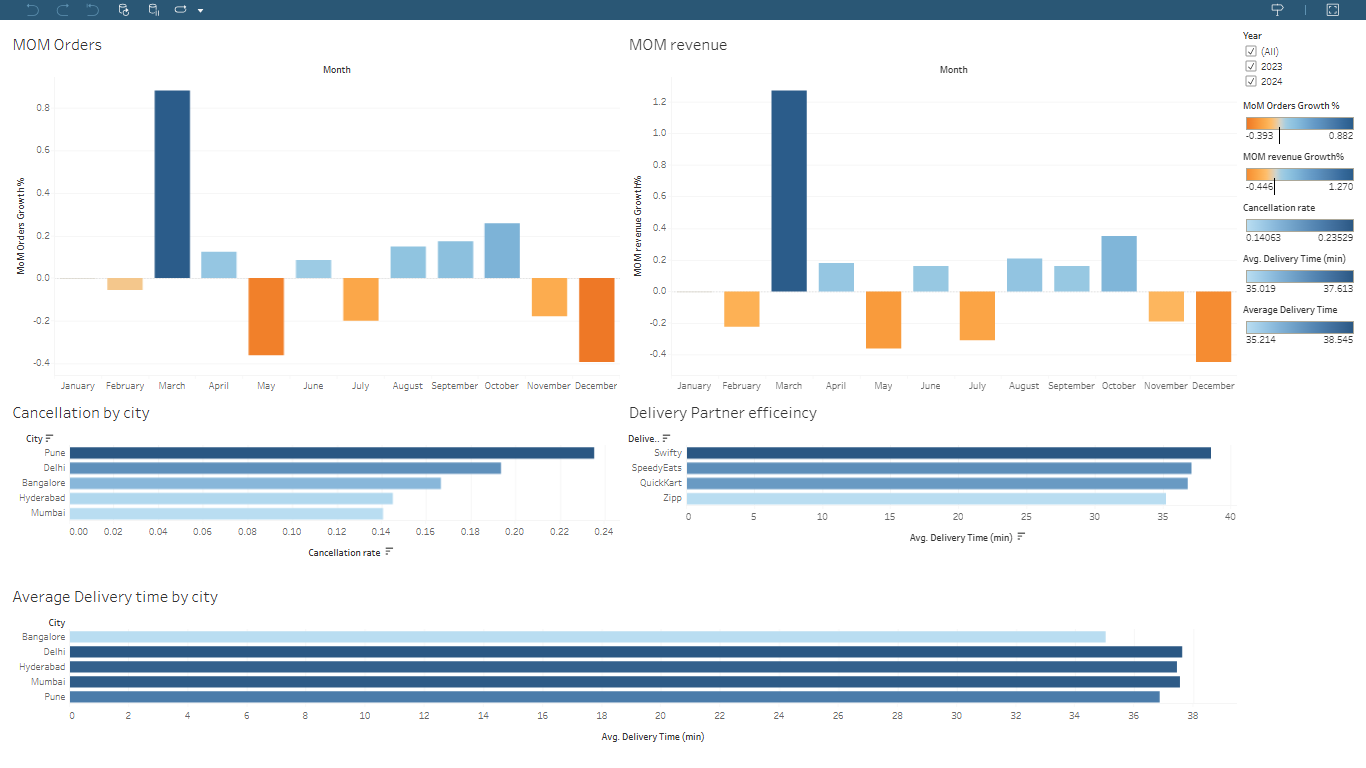

Layout of this report page (visuals, bound fields, positions):
{"tool":"tableau","page":{"name":"Additional insights","canvas":[650,860],"ordinal":0},"visuals":[{"type":"worksheet","title":"MOM Orders","mark":"Automatic","rows":["Calculation_253890445255352329"],"cols":["Month"],"box":[8,8.6,237,421.4]},{"type":"worksheet","title":"MOM revenue","mark":"Automatic","rows":["Calculation_253890445258588172"],"cols":["Month"],"box":[245,8.6,237,421.4]},{"type":"filter","title":"MOM Orders","param":"[federated.0hogbfi0d1iovd1blybye1nn2n2q].[none:Year:ok]","box":[482,8.6,160,112.6]},{"type":"legend","title":"MOM Orders","param":"[federated.0hogbfi0d1iovd1blybye1nn2n2q].[usr:Calculation_253890445255352329:qk]","box":[482,121.2,160,78.3]},{"type":"legend","title":"MOM revenue","param":"[federated.0hogbfi0d1iovd1blybye1nn2n2q].[usr:Calculation_253890445258588172:qk]","box":[482,199.5,160,78.3]},{"type":"legend","title":"Cancellation by city","param":"[federated.0hogbfi0d1iovd1blybye1nn2n2q].[usr:Calculation_253890444914860033:qk]","box":[482,277.8,160,78.3]},{"type":"legend","title":"Average Delivery time by city ","param":"[federated.0hogbfi0d1iovd1blybye1nn2n2q].[avg:Delivery Time (min):qk]","box":[482,356,160,78.3]},{"type":"worksheet","title":"Cancellation by city","mark":"Bar","rows":["City"],"cols":["Calculation_253890444914860033"],"box":[8,430,474,210.7]},{"type":"worksheet","title":"Delivery Partner efficeincy ","mark":"Automatic","rows":["Delivery Partner"],"cols":["Delivery Time (min)"],"box":[482,434.3,160,334.6]},{"type":"worksheet","title":"Average Delivery time by city ","mark":"Bar","rows":["City"],"cols":["Delivery Time (min)"],"box":[8,640.7,474,210.7]},{"type":"legend","title":"Delivery Partner efficeincy ","param":"[federated.0hogbfi0d1iovd1blybye1nn2n2q].[usr:Calculation_253890444914565120:qk]","box":[482,768.9,160,78.3]}]}

Visuals, with their boxes on the page's 650x860 design canvas (x1, y1, x2, y2). These are canvas units, not pixel positions in the 1366x768 screenshot, which may show the page scaled, cropped or inside an application window:
"MOM Orders" worksheet: detection(8, 9, 245, 430)
"MOM revenue" worksheet: detection(245, 9, 482, 430)
"MOM Orders" filter: detection(482, 9, 642, 121)
"MOM Orders" legend: detection(482, 121, 642, 200)
"MOM revenue" legend: detection(482, 200, 642, 278)
"Cancellation by city" legend: detection(482, 278, 642, 356)
"Average Delivery time by city " legend: detection(482, 356, 642, 434)
"Cancellation by city" worksheet (Bar marks): detection(8, 430, 482, 641)
"Delivery Partner efficeincy " worksheet: detection(482, 434, 642, 769)
"Average Delivery time by city " worksheet (Bar marks): detection(8, 641, 482, 851)
"Delivery Partner efficeincy " legend: detection(482, 769, 642, 847)
